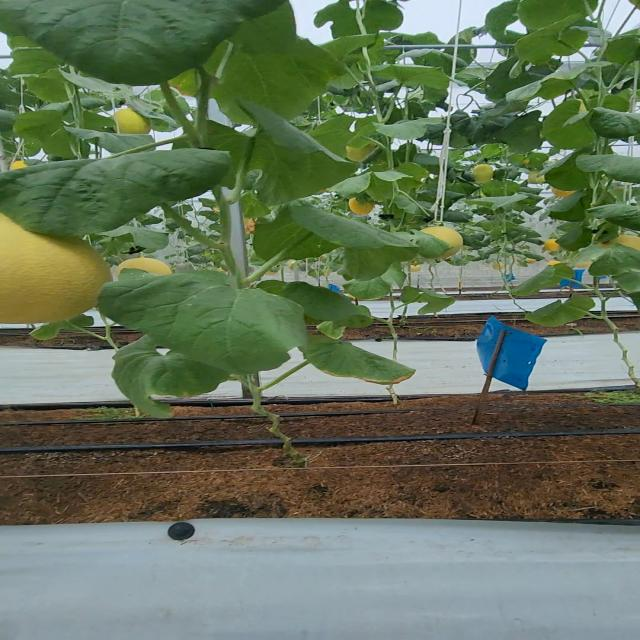Front-melon: (0, 226, 95, 326)
